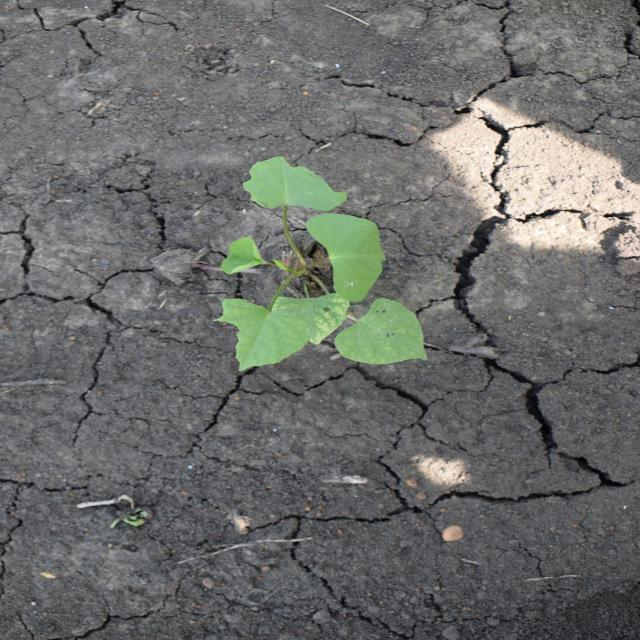MorningGlory: (209, 155, 430, 374)
